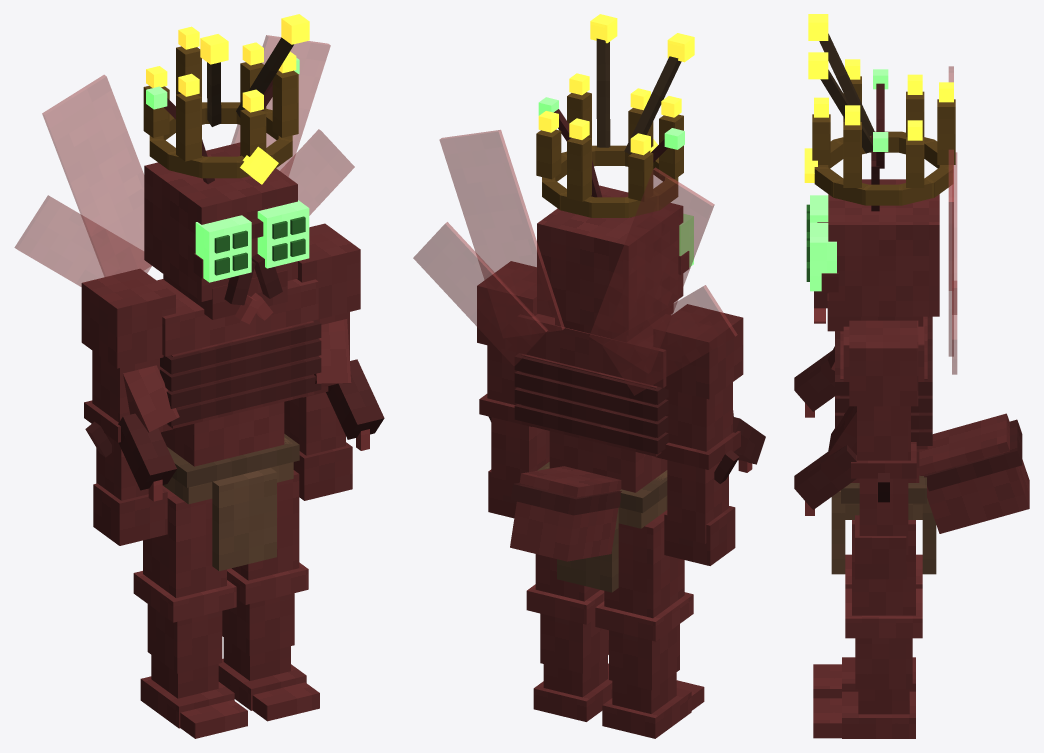
Rendered from zzar.glb.
3 views of the same model, side by side, from view 1: azimuth 30°, elevation 25°; view 2: azimuth 150°, elevation 25°; view 3: azimuth 270°, elevation 25° (orthographic). The views are drawn at different scales.
Visible parts, largest first — view 1: Torso, Head, LegR, ArmR, LegL, ArmL; view 2: Torso, Head, ArmR, LegR, ArmL, LegL; view 3: Head, Torso, ArmL, LegL, LegR.
Boxes of the visible parts, <box> form: Torso: <box>14,35,384,571</box>; Head: <box>143,14,309,324</box>; LegR: <box>133,486,247,738</box>; ArmR: <box>81,268,175,545</box>; LegL: <box>218,470,319,721</box>; ArmL: <box>284,223,360,500</box>; Torso: <box>413,130,765,592</box>; Head: <box>536,14,694,341</box>; ArmR: <box>653,304,743,565</box>; LegR: <box>595,510,704,738</box>; ArmL: <box>477,261,549,518</box>; LegL: <box>526,554,612,721</box>; Head: <box>804,14,955,331</box>; Torso: <box>794,66,1029,574</box>; ArmL: <box>849,320,918,579</box>; LegL: <box>813,520,922,738</box>; LegR: <box>813,554,922,698</box>.
Size of the model in its own units: 1.12 by 2.2 by 0.699.
26 materials, 26 textured.
